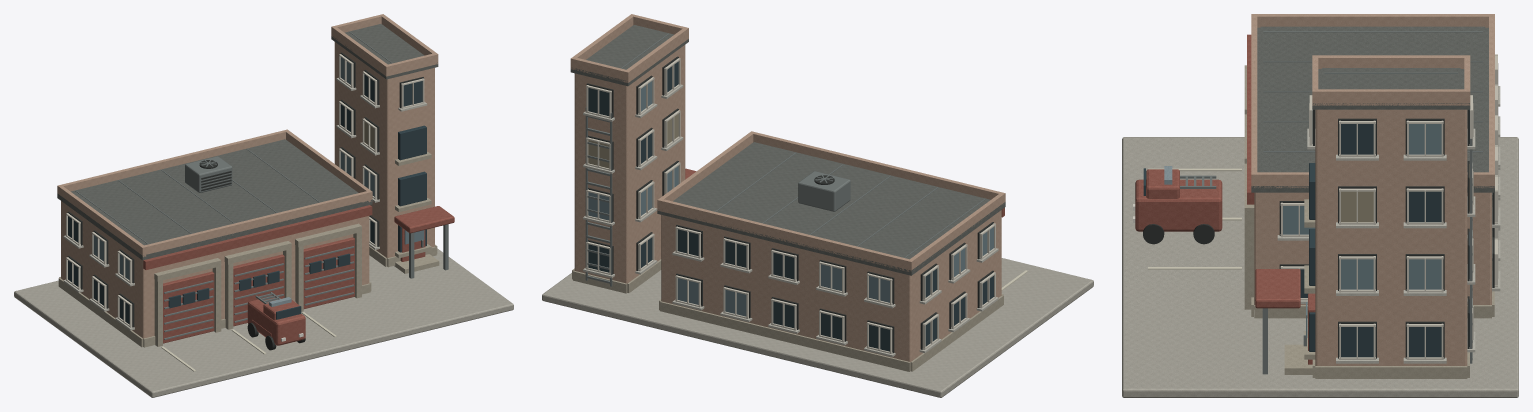
Rendered from CIV_FIRE_3x2_002.glb.
The picture shows the model from 3 angles, left to right: view 1: azimuth 30°, elevation 25°; view 2: azimuth 150°, elevation 25°; view 3: azimuth 270°, elevation 25°; orthographic projection. The views are drawn at different scales.
Visible parts, largest first — view 1: CIV_FIRE_3x2_002_Visual; view 2: CIV_FIRE_3x2_002_Visual; view 3: CIV_FIRE_3x2_002_Visual.
Part boxes in pixels (x1=…): CIV_FIRE_3x2_002_Visual: x1=14, y1=14, x2=513, y2=397; CIV_FIRE_3x2_002_Visual: x1=542, y1=14, x2=1093, y2=397; CIV_FIRE_3x2_002_Visual: x1=1122, y1=14, x2=1518, y2=397.
Size of what is drawn, in the model's own units: 5.92 by 3.28 by 3.92.
Materials: 17 (10 with a texture image).
